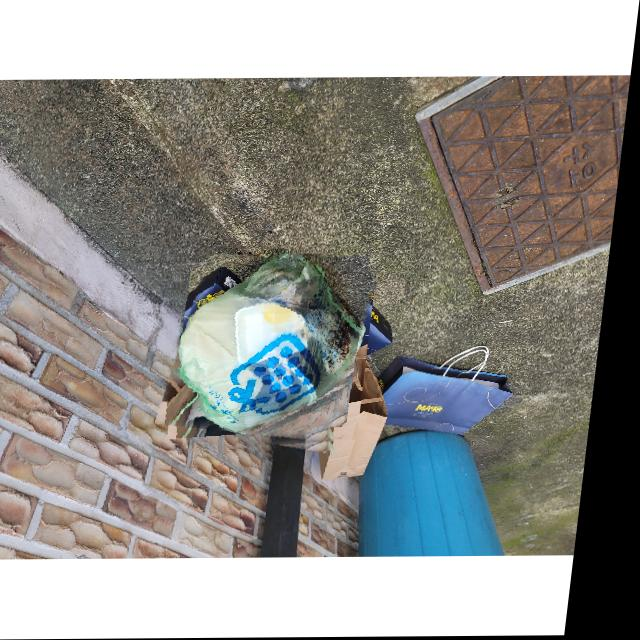general_trashbag: (167, 255, 383, 444)
